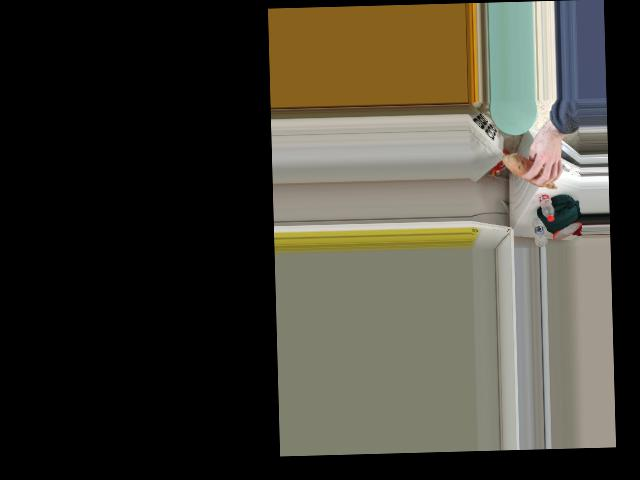sweet_potato: (504, 151, 559, 188)
